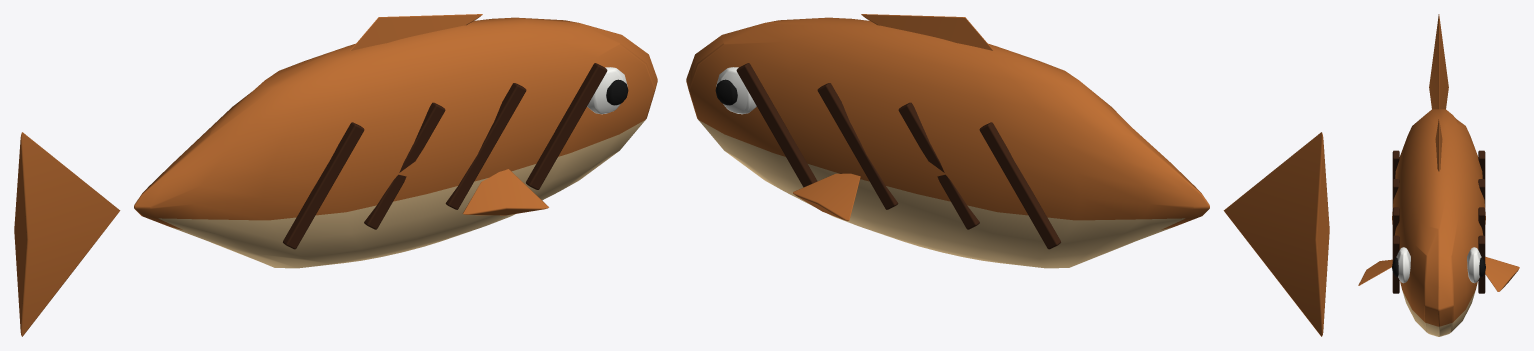
File: Fish_Cooked.glb
3 views of the same model, side by side, from view 1: azimuth 30°, elevation 25°; view 2: azimuth 150°, elevation 25°; view 3: azimuth 270°, elevation 25° (orthographic). The views are drawn at different scales.
Visible parts, largest first — view 1: Fish_Cooked; view 2: Fish_Cooked; view 3: Fish_Cooked.
Boxes of the visible parts, bbox=[...] form: Fish_Cooked: bbox=[14, 14, 657, 336]; Fish_Cooked: bbox=[686, 14, 1329, 336]; Fish_Cooked: bbox=[1358, 14, 1519, 336].
Size of the model in its own units: 0.3145 by 0.1116 by 0.0961.
